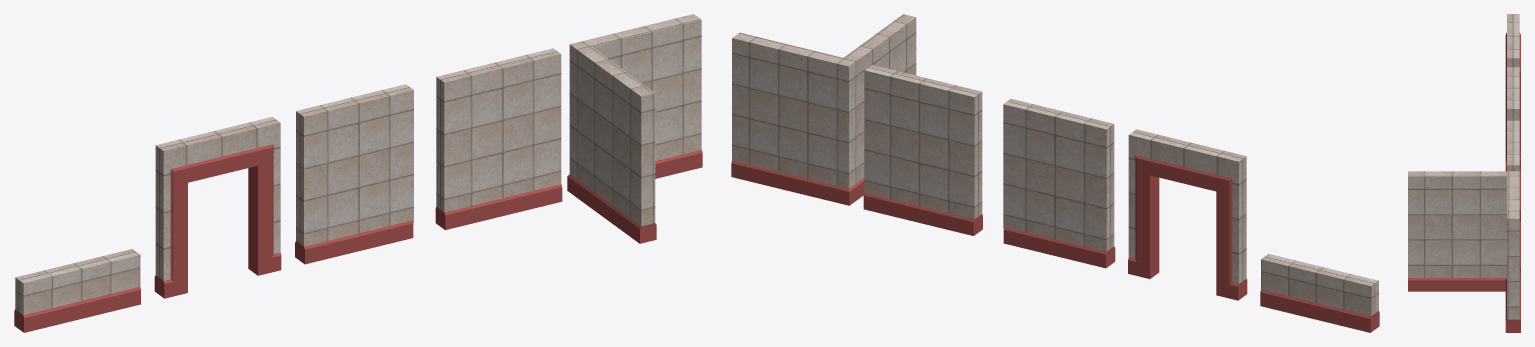
Rendered from Walls.fbx.
3 renders of one model, left to right at view 1: azimuth 30°, elevation 25°; view 2: azimuth 150°, elevation 25°; view 3: azimuth 270°, elevation 25°, orthographic. The views are drawn at different scales.
Parts seen in each view (by area): view 1: Wall_Corner, Wall_Straight, Wall_Partition, Wall_Door, Wall_Short; view 2: Wall_Corner, Wall_Straight, Wall_Partition, Wall_Door, Wall_Short; view 3: Wall_Corner, Wall_Door, Wall_Partition, Wall_Straight.
Part boxes in pixels (left/top/right/bottom): Wall_Corner: left=567, top=14, right=702, bottom=243; Wall_Straight: left=435, top=48, right=562, bottom=230; Wall_Partition: left=295, top=84, right=413, bottom=264; Wall_Door: left=154, top=117, right=281, bottom=298; Wall_Short: left=14, top=249, right=140, bottom=332; Wall_Corner: left=731, top=14, right=916, bottom=205; Wall_Straight: left=863, top=65, right=982, bottom=235; Wall_Partition: left=1003, top=98, right=1115, bottom=268; Wall_Door: left=1128, top=129, right=1247, bottom=300; Wall_Short: left=1260, top=254, right=1379, bottom=332; Wall_Corner: left=1408, top=171, right=1520, bottom=332; Wall_Door: left=1505, top=14, right=1520, bottom=169; Wall_Partition: left=1505, top=67, right=1520, bottom=222; Wall_Straight: left=1507, top=120, right=1520, bottom=273.
Bounding box in the file's own units: 1450 × 300 × 268.
